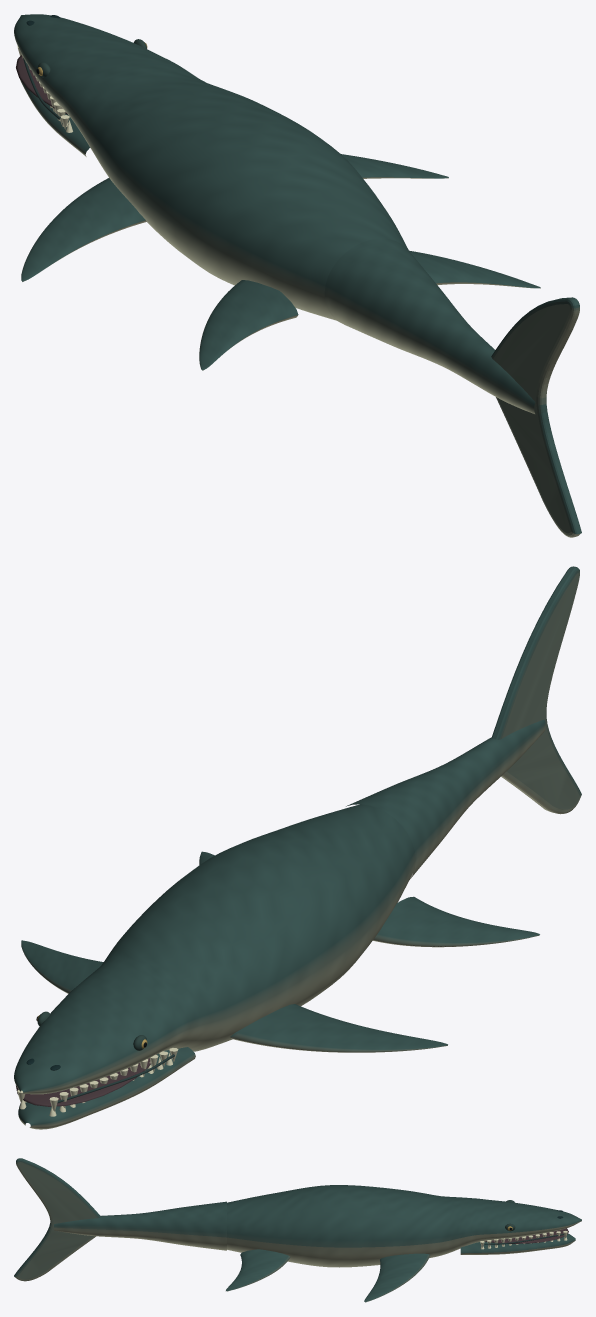
Rendered from mosasaurus.glb.
The picture shows the model from 3 angles, top to bottom: view 1: azimuth 30°, elevation 25°; view 2: azimuth 150°, elevation 25°; view 3: azimuth 270°, elevation 25°; orthographic projection. The views are drawn at different scales.
Visible parts, largest first — view 1: Body, TailBase, TailFluke, FlipperFront-1, FlipperRear-1, FlipperRear1, FlipperFront1, LowerJaw; view 2: Body, TailFluke, TailBase, FlipperFront-1, FlipperRear-1, LowerJaw, FlipperFront1, Mosasaurus, Assembly; view 3: Body, TailBase, TailFluke, FlipperFront1, FlipperRear1, LowerJaw, Mosasaurus, Assembly.
Boxes of the visible parts, x1,y1,x2,y2 form: Body: (14, 14, 408, 320); TailBase: (324, 238, 535, 413); TailFluke: (491, 297, 581, 537); FlipperFront-1: (21, 178, 146, 281); FlipperRear-1: (199, 280, 298, 370); FlipperRear1: (409, 250, 540, 288); FlipperFront1: (341, 154, 448, 178); LowerJaw: (20, 79, 90, 156); Body: (14, 804, 415, 1094); TailFluke: (491, 566, 581, 814); TailBase: (346, 719, 545, 879); FlipperFront-1: (230, 1004, 447, 1052); FlipperRear-1: (373, 896, 539, 947); LowerJaw: (18, 1047, 195, 1129); FlipperFront1: (21, 940, 103, 993); Mosasaurus: (16, 1054, 156, 1106); Assembly: (17, 1048, 178, 1111); Body: (227, 1185, 581, 1267); TailBase: (54, 1201, 226, 1250); TailFluke: (14, 1158, 100, 1281); FlipperFront1: (364, 1253, 430, 1302); FlipperRear1: (226, 1249, 290, 1291); LowerJaw: (460, 1233, 575, 1254); Mosasaurus: (484, 1228, 568, 1243); Assembly: (480, 1231, 567, 1247).
Size of the model in its own units: 5.8 by 3.11 by 13.13.
